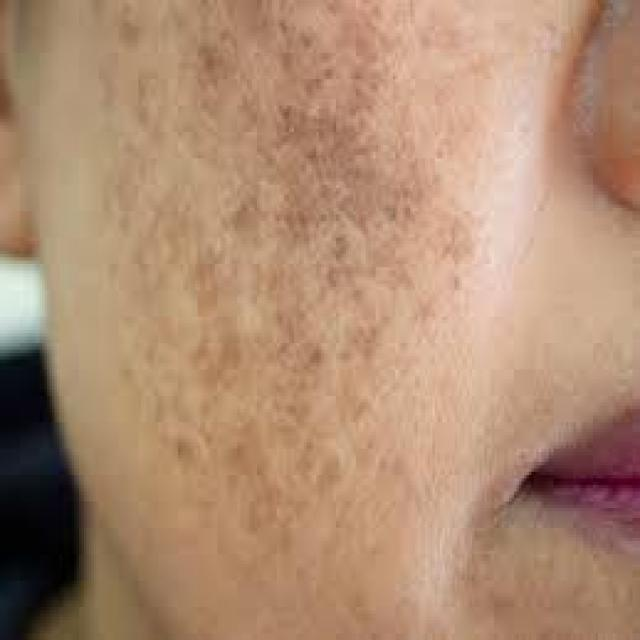pigmentation: (196, 58, 439, 450)
